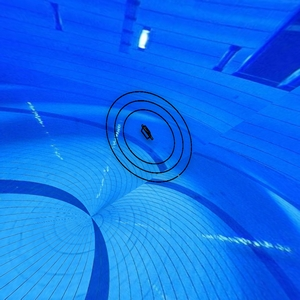circle: (97, 86, 200, 189)
submarine: (137, 121, 155, 143)
